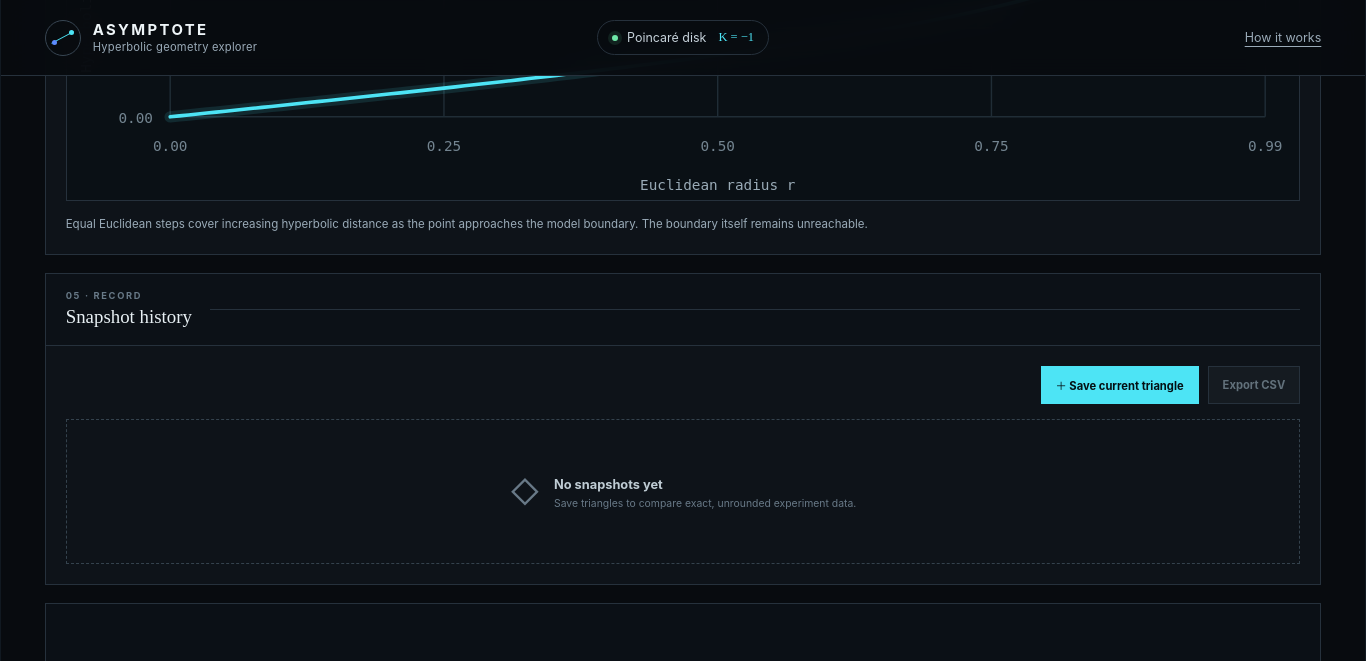
Test: ASYMPTOTE application integration › saves, compares, restores, and removes snapshots
(page scrolled)
Click the button "＋ Save current triangle" at (1120, 385), box [1040,366,1199,404]
(page scrolled)
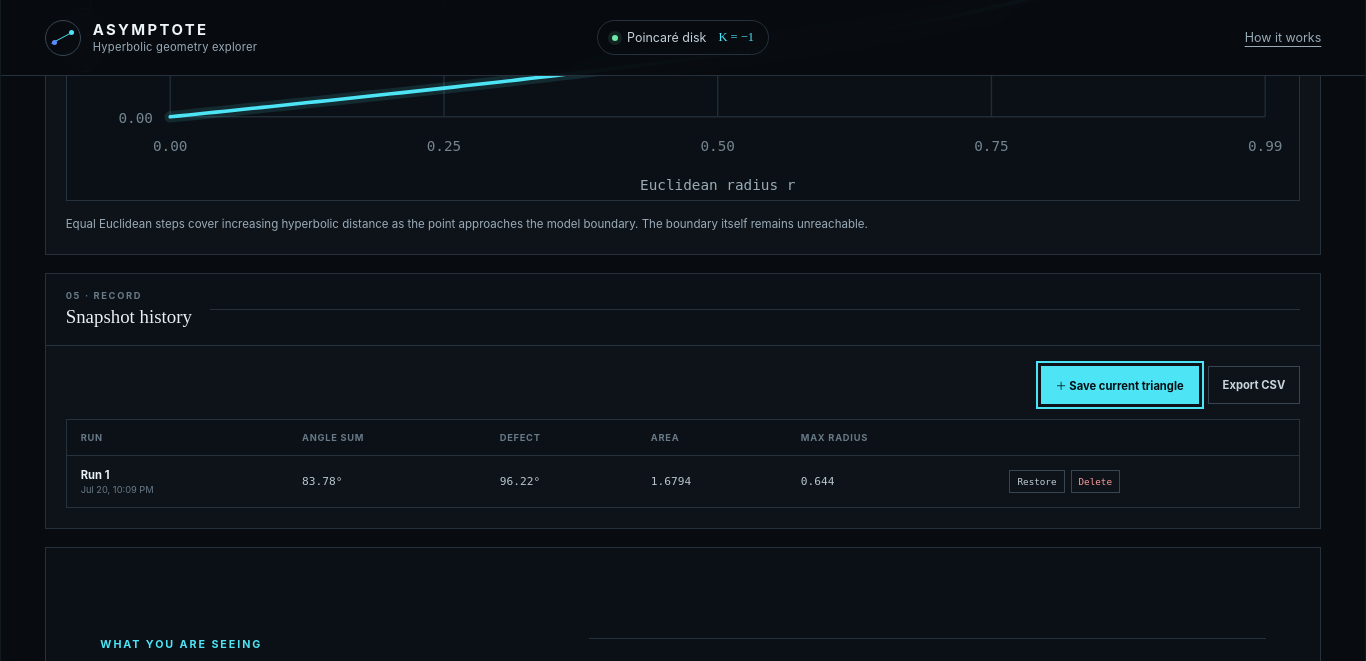
Expected: the text "Run 1" is shown, [81,468,110,482]
Click the button with aria-label "restore run 1" at (1037, 481), box [1010,470,1065,493]
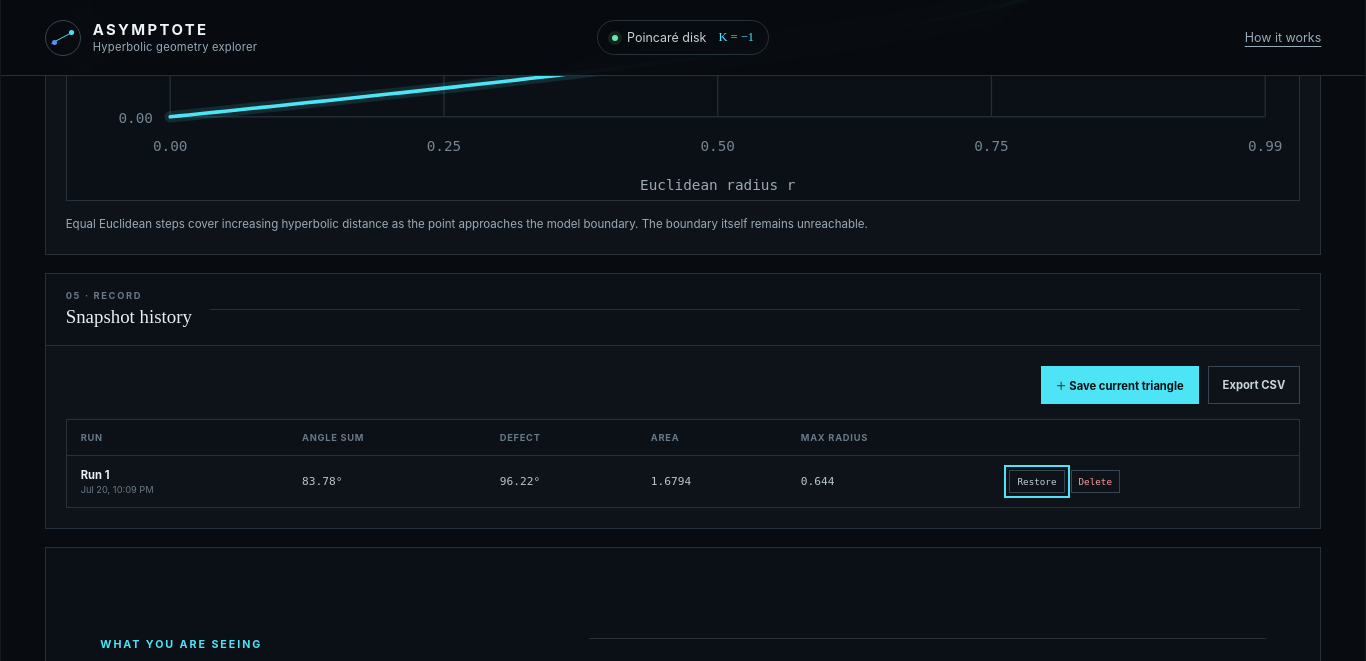
Click the button with aria-label "delete run 1" at (1095, 481), box [1070,470,1120,493]
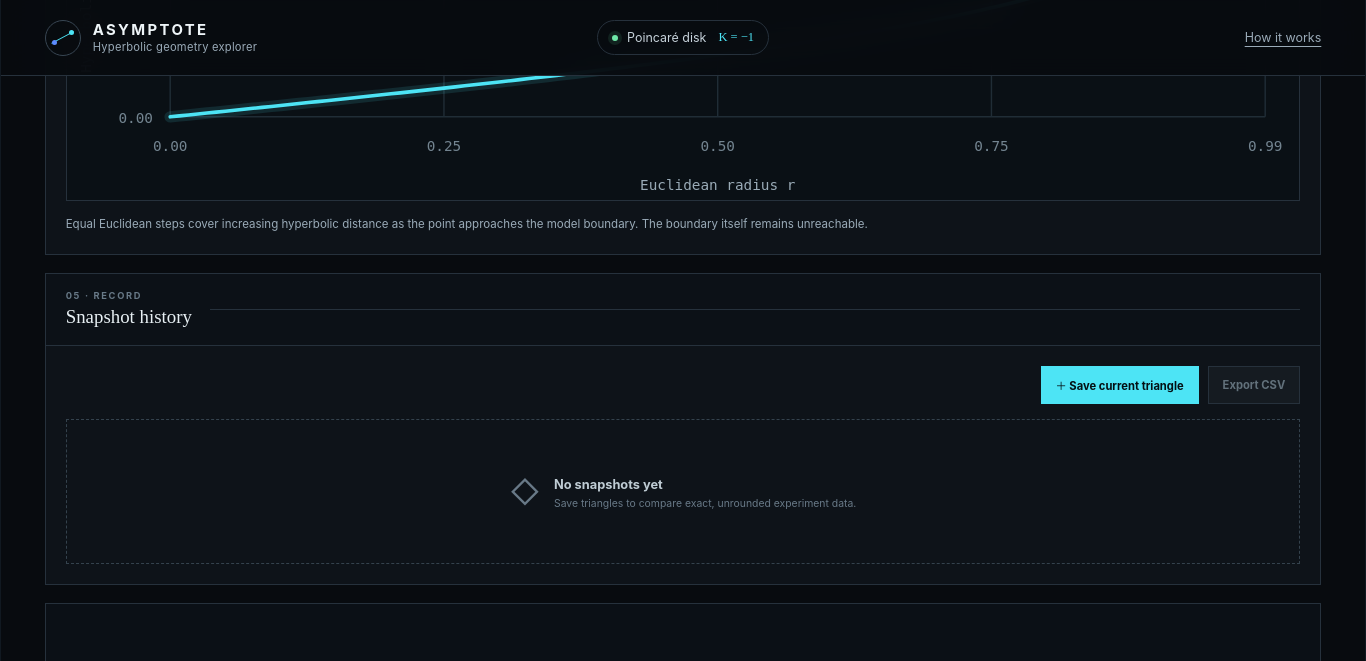
Expected: the text "No snapshots yet" is shown, [554,477,663,492]
